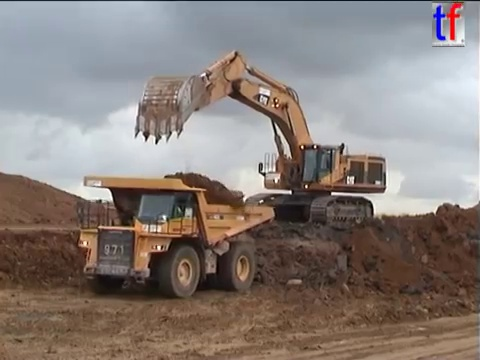excavator: (132, 48, 390, 232)
truck: (74, 173, 276, 301), (204, 187, 245, 224)
